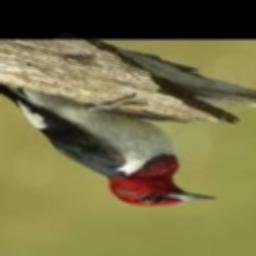Woodpecker: (0, 82, 217, 206)
